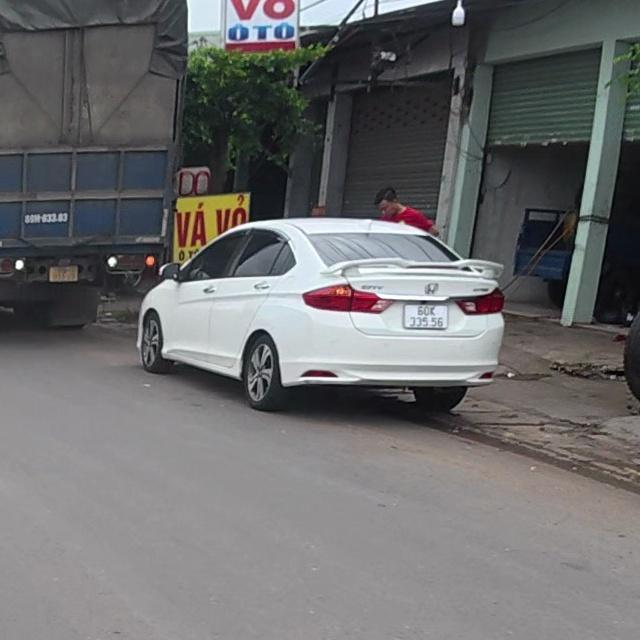license-plate: (403, 303, 449, 329)
